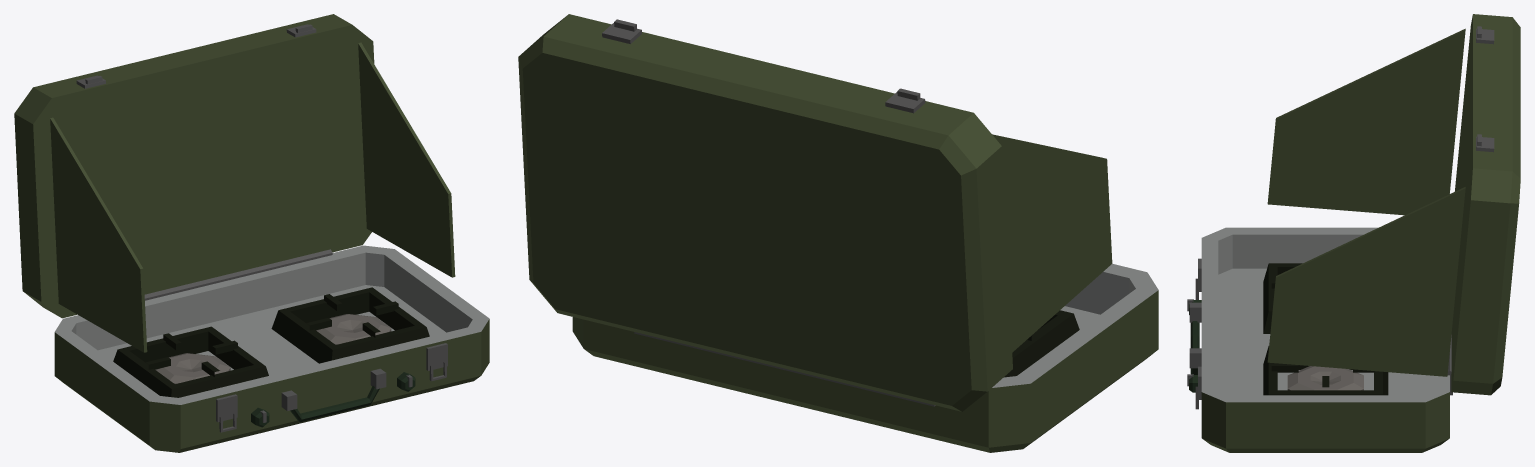
Rendered from two-burner-camp-stove-3e83f5.glb.
The picture shows the model from 3 angles, left to right: view 1: azimuth 30°, elevation 25°; view 2: azimuth 150°, elevation 25°; view 3: azimuth 270°, elevation 25°; orthographic projection. The views are drawn at different scales.
Visible parts, largest first — view 1: lid-shell, stove-base, flap-left-plate, flap-right-plate, handle-grip; view 2: lid-shell, stove-base, flap-left-plate; view 3: stove-base, flap-right-plate, flap-left-plate, lid-shell.
Boxes of the visible parts, x1=… form: lid-shell: x1=14, y1=14, x2=374, y2=318; stove-base: x1=54, y1=245, x2=489, y2=452; flap-left-plate: x1=50, y1=117, x2=147, y2=352; flap-right-plate: x1=358, y1=42, x2=455, y2=277; handle-grip: x1=290, y1=386, x2=379, y2=422; lid-shell: x1=518, y1=14, x2=1012, y2=411; stove-base: x1=572, y1=263, x2=1158, y2=452; flap-left-plate: x1=992, y1=134, x2=1112, y2=352; stove-base: x1=1187, y1=227, x2=1452, y2=452; flap-right-plate: x1=1267, y1=187, x2=1465, y2=376; flap-left-plate: x1=1267, y1=28, x2=1465, y2=215; lid-shell: x1=1451, y1=14, x2=1520, y2=395.
Bounding box in the file's own units: 0.55 × 0.4191 × 0.444.
